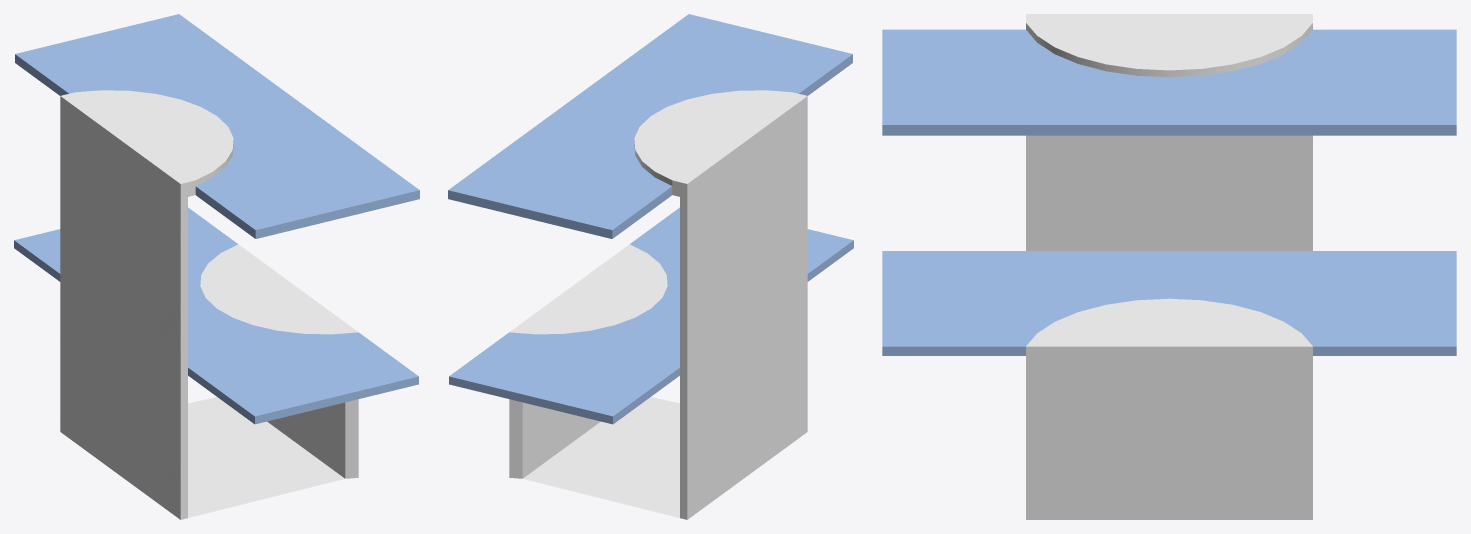
Rendered from nov6.glb.
3 renders of one model, left to right at view 1: azimuth 30°, elevation 25°; view 2: azimuth 150°, elevation 25°; view 3: azimuth 270°, elevation 25°, orthographic. The views are drawn at different scales.
Parts seen in each view (by area): view 1: nov6; view 2: nov6; view 3: nov6.
Boxes of the visible parts, <box> form: nov6: <box>14,14,419,519</box>; nov6: <box>448,14,853,519</box>; nov6: <box>882,14,1456,519</box>.
Bounding box in the file's own units: 4.2 × 7.56 × 9.78.
